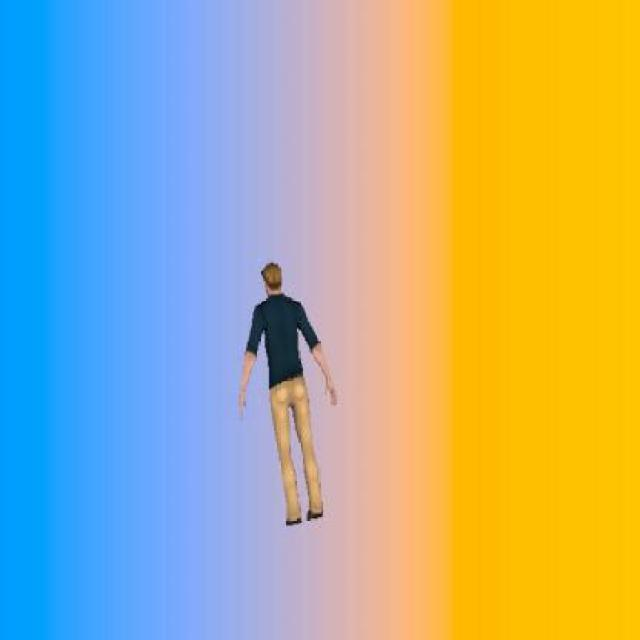Person: (234, 255, 341, 534)
